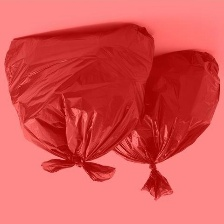plastic_bag: (2, 18, 158, 186), (99, 45, 224, 202)
